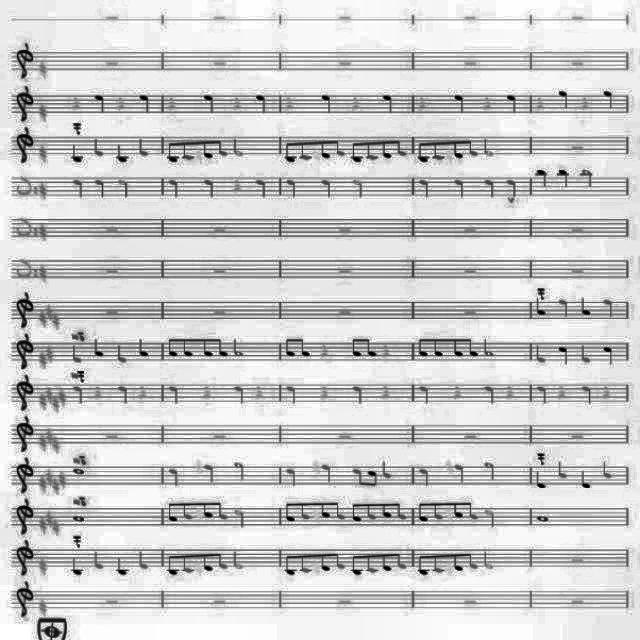Eighth-note: (362, 544, 381, 580), (198, 494, 216, 530), (429, 328, 447, 364), (314, 495, 334, 527), (178, 330, 198, 362), (180, 494, 197, 530), (448, 492, 466, 526), (393, 537, 409, 575), (297, 541, 313, 577), (429, 132, 447, 164), (448, 130, 466, 162), (378, 542, 394, 578), (379, 491, 396, 524), (414, 330, 431, 362), (297, 132, 313, 166), (449, 330, 466, 362), (452, 542, 466, 580), (432, 540, 444, 584), (214, 494, 230, 526), (393, 129, 409, 161), (417, 546, 431, 582), (283, 326, 297, 362), (320, 536, 332, 576), (346, 135, 362, 165), (380, 132, 396, 162), (180, 134, 197, 162), (333, 494, 347, 526), (351, 493, 365, 525), (466, 494, 480, 526), (462, 334, 478, 362), (366, 492, 378, 528), (470, 123, 482, 159), (297, 496, 311, 526), (394, 495, 408, 525), (464, 544, 478, 574), (165, 137, 179, 167), (215, 131, 229, 161), (200, 548, 217, 572), (167, 548, 181, 576), (216, 332, 230, 360), (283, 136, 297, 164), (166, 496, 178, 528), (284, 546, 296, 578), (364, 463, 380, 487), (417, 493, 429, 525), (432, 493, 444, 525), (164, 334, 180, 358), (416, 136, 428, 168), (295, 338, 311, 362), (179, 549, 193, 575), (335, 538, 345, 574), (352, 459, 364, 489), (335, 128, 345, 164), (352, 544, 362, 580), (200, 139, 213, 165), (218, 544, 230, 572), (282, 496, 294, 524), (349, 334, 363, 358), (364, 136, 376, 164), (366, 336, 378, 360), (318, 137, 330, 161), (200, 334, 212, 358)
Full-note: (536, 508, 552, 528), (72, 464, 88, 476), (70, 510, 86, 522)
Full-rest: (564, 429, 604, 451), (101, 49, 127, 75), (334, 257, 362, 279), (209, 593, 241, 611), (330, 589, 354, 611), (96, 220, 122, 240), (457, 52, 483, 72), (96, 304, 124, 322), (457, 428, 487, 444), (332, 54, 356, 74), (101, 594, 127, 612), (207, 304, 230, 324), (566, 552, 594, 568), (204, 264, 232, 280), (566, 258, 588, 278), (460, 588, 484, 606), (566, 54, 590, 72), (566, 217, 588, 236), (333, 222, 359, 238), (336, 429, 360, 446), (100, 262, 124, 278), (458, 305, 482, 321), (210, 218, 233, 234), (336, 302, 359, 318), (210, 54, 233, 70), (458, 223, 484, 237), (566, 593, 590, 607), (101, 428, 122, 444), (460, 264, 482, 276), (210, 432, 230, 444)
Half-note: (480, 126, 500, 158), (229, 456, 249, 486), (580, 166, 600, 194), (482, 549, 502, 575), (232, 540, 248, 572), (233, 498, 249, 528), (232, 134, 248, 162), (233, 337, 249, 363), (486, 459, 500, 485), (482, 506, 498, 528), (482, 334, 494, 362)
Quarter-note: (596, 84, 618, 120), (451, 171, 469, 209), (284, 374, 302, 410), (533, 330, 551, 366), (504, 86, 522, 122), (68, 136, 88, 168), (600, 292, 620, 324), (252, 170, 272, 202), (134, 544, 152, 578), (114, 543, 130, 581), (580, 377, 600, 407), (169, 164, 187, 196), (553, 164, 571, 196), (135, 90, 153, 122), (556, 88, 574, 120), (415, 379, 437, 405), (70, 550, 90, 578), (348, 377, 366, 407), (201, 89, 219, 119), (450, 93, 468, 123), (484, 378, 501, 409), (450, 463, 470, 489), (318, 175, 337, 202), (90, 546, 106, 578), (113, 138, 129, 170), (116, 174, 134, 202), (318, 462, 334, 493), (532, 296, 552, 320), (284, 170, 300, 200), (534, 166, 550, 196), (602, 335, 618, 365), (118, 380, 136, 406), (558, 337, 576, 363), (138, 334, 152, 366), (418, 172, 432, 204), (532, 466, 548, 494), (352, 176, 368, 204), (95, 84, 109, 116), (574, 297, 594, 319), (233, 378, 247, 408), (203, 456, 217, 484), (578, 466, 592, 494), (317, 90, 331, 118), (116, 334, 128, 366), (556, 458, 568, 490), (580, 334, 592, 366), (285, 464, 299, 491), (536, 378, 548, 409), (91, 135, 105, 161), (72, 171, 84, 201), (204, 173, 216, 203), (506, 175, 518, 205), (602, 455, 614, 485), (258, 87, 270, 117), (92, 175, 105, 202), (170, 460, 182, 488), (382, 460, 394, 488), (93, 334, 105, 361), (484, 175, 496, 202), (72, 381, 86, 404), (68, 343, 84, 363), (383, 89, 393, 121), (558, 293, 570, 319), (169, 378, 179, 409), (140, 136, 152, 160), (419, 464, 431, 488)
Quarter-rest: (135, 376, 153, 404), (230, 172, 248, 196), (229, 89, 243, 118), (378, 384, 394, 408), (416, 92, 432, 116), (601, 380, 617, 404), (448, 385, 464, 407), (502, 381, 518, 403), (552, 382, 568, 404), (534, 90, 550, 112), (91, 380, 105, 404), (347, 96, 361, 120), (480, 94, 498, 112), (252, 381, 266, 404), (318, 378, 329, 407), (70, 92, 82, 118), (286, 90, 298, 116), (112, 95, 128, 114), (580, 90, 592, 114), (204, 382, 216, 402), (164, 100, 178, 116)
Treble-clef: (16, 454, 40, 498), (11, 332, 37, 372), (15, 532, 38, 576), (15, 38, 38, 82), (11, 380, 37, 416), (13, 286, 33, 330), (14, 85, 38, 121), (15, 497, 37, 535), (17, 576, 35, 620), (12, 130, 36, 162), (13, 415, 32, 453)
